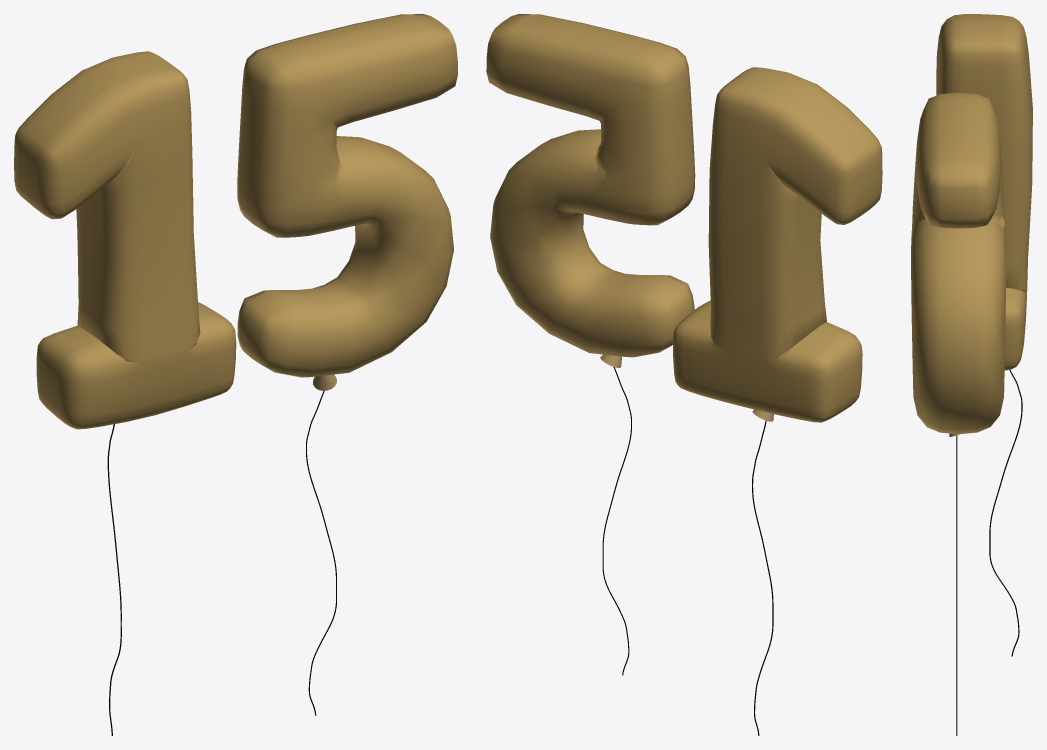
Rendered from globo15.fbx.
3 views of the same model, side by side, from view 1: azimuth 30°, elevation 25°; view 2: azimuth 150°, elevation 25°; view 3: azimuth 270°, elevation 25° (orthographic). The views are drawn at different scales.
Visible parts, largest first — view 1: pPlane48, pPlane47; view 2: pPlane48, pPlane47; view 3: pPlane48, pPlane47, defaultBrush1Main4, defaultBrush1Main5.
Part boxes in pixels (bbox=[...]): pPlane48: bbox=[237, 14, 457, 377]; pPlane47: bbox=[14, 51, 236, 429]; pPlane48: bbox=[486, 14, 695, 357]; pPlane47: bbox=[672, 67, 882, 422]; pPlane48: bbox=[911, 92, 1006, 434]; pPlane47: bbox=[936, 14, 1032, 370]; defaultBrush1Main4: bbox=[956, 435, 957, 735]; defaultBrush1Main5: bbox=[989, 370, 1022, 656].
Bounding box in the file's own units: 8.81 × 14.05 × 2.45.
